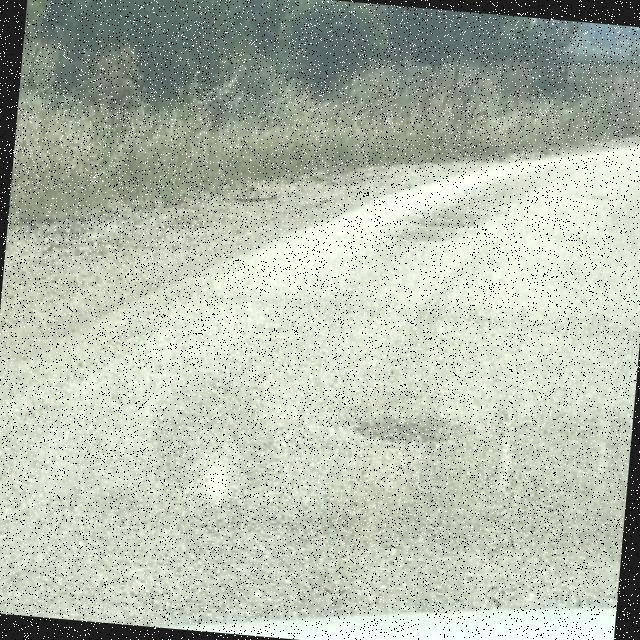Pothole: (352, 413, 466, 443)
